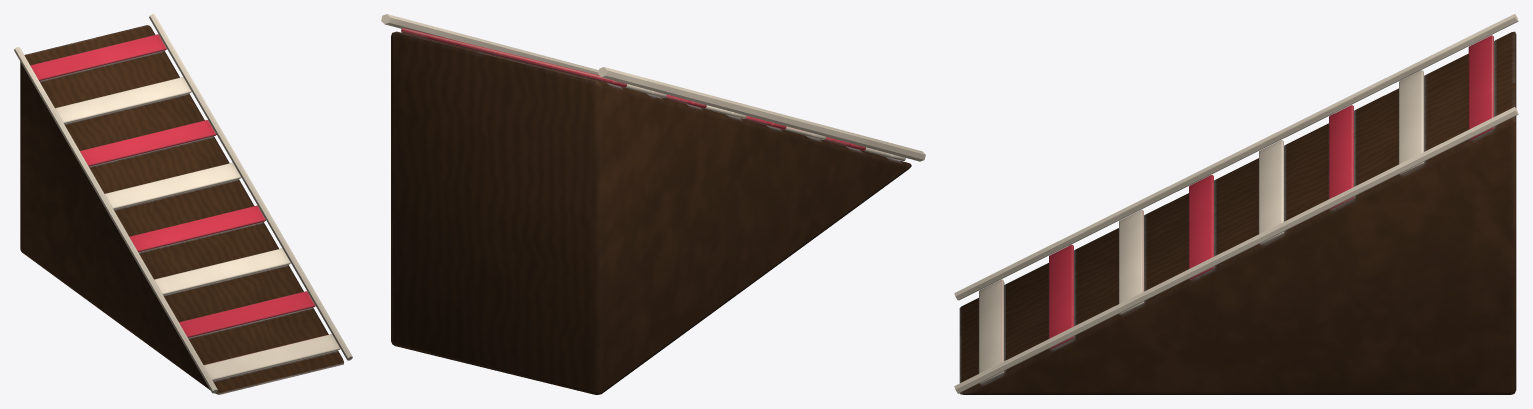
File: rr_ramp.glb
The picture shows the model from 3 angles, left to right: view 1: azimuth 30°, elevation 25°; view 2: azimuth 150°, elevation 25°; view 3: azimuth 270°, elevation 25°; orthographic projection. The views are drawn at different scales.
Parts seen in each view (by area): view 1: rr_ramp; view 2: rr_ramp; view 3: rr_ramp.
Part boxes in pixels (x1,y1,x2,y2): rr_ramp: (14, 14, 352, 394); rr_ramp: (381, 14, 925, 394); rr_ramp: (954, 14, 1518, 394).
Bounding box in the file's own units: 2.45 × 3.44 × 6.05.
3 materials, 3 textured.
